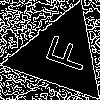F: (35, 30, 91, 75)
